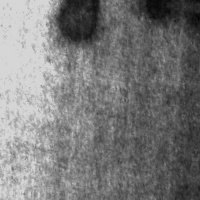patches: (57, 0, 104, 42), (139, 4, 200, 34)
